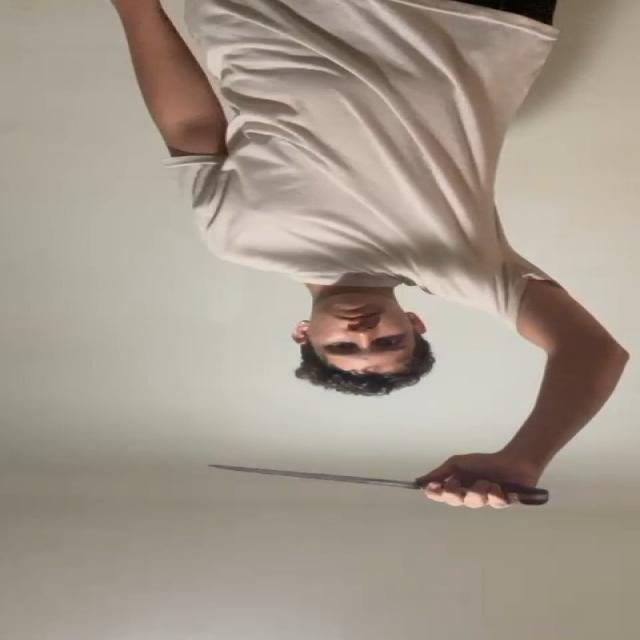knife: (208, 463, 427, 491)
